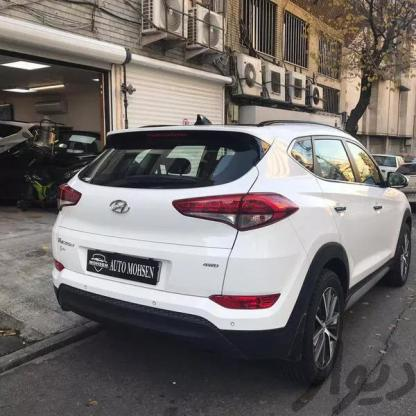Car: (56, 112, 411, 369), (359, 141, 416, 194)
